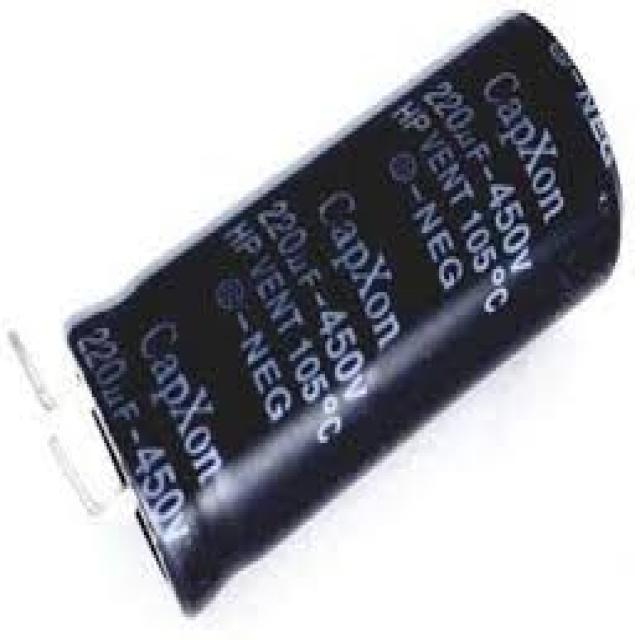Capacitor: (64, 13, 623, 617)
